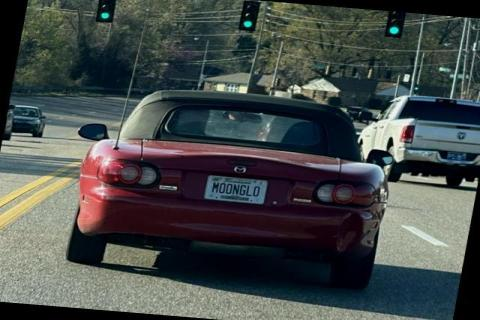LicensePlate: (201, 173, 267, 204)
